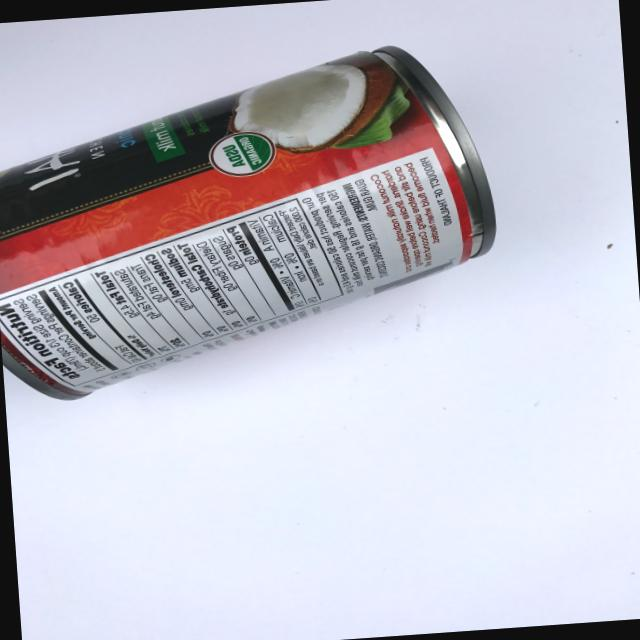Metal: (0, 34, 525, 416)
